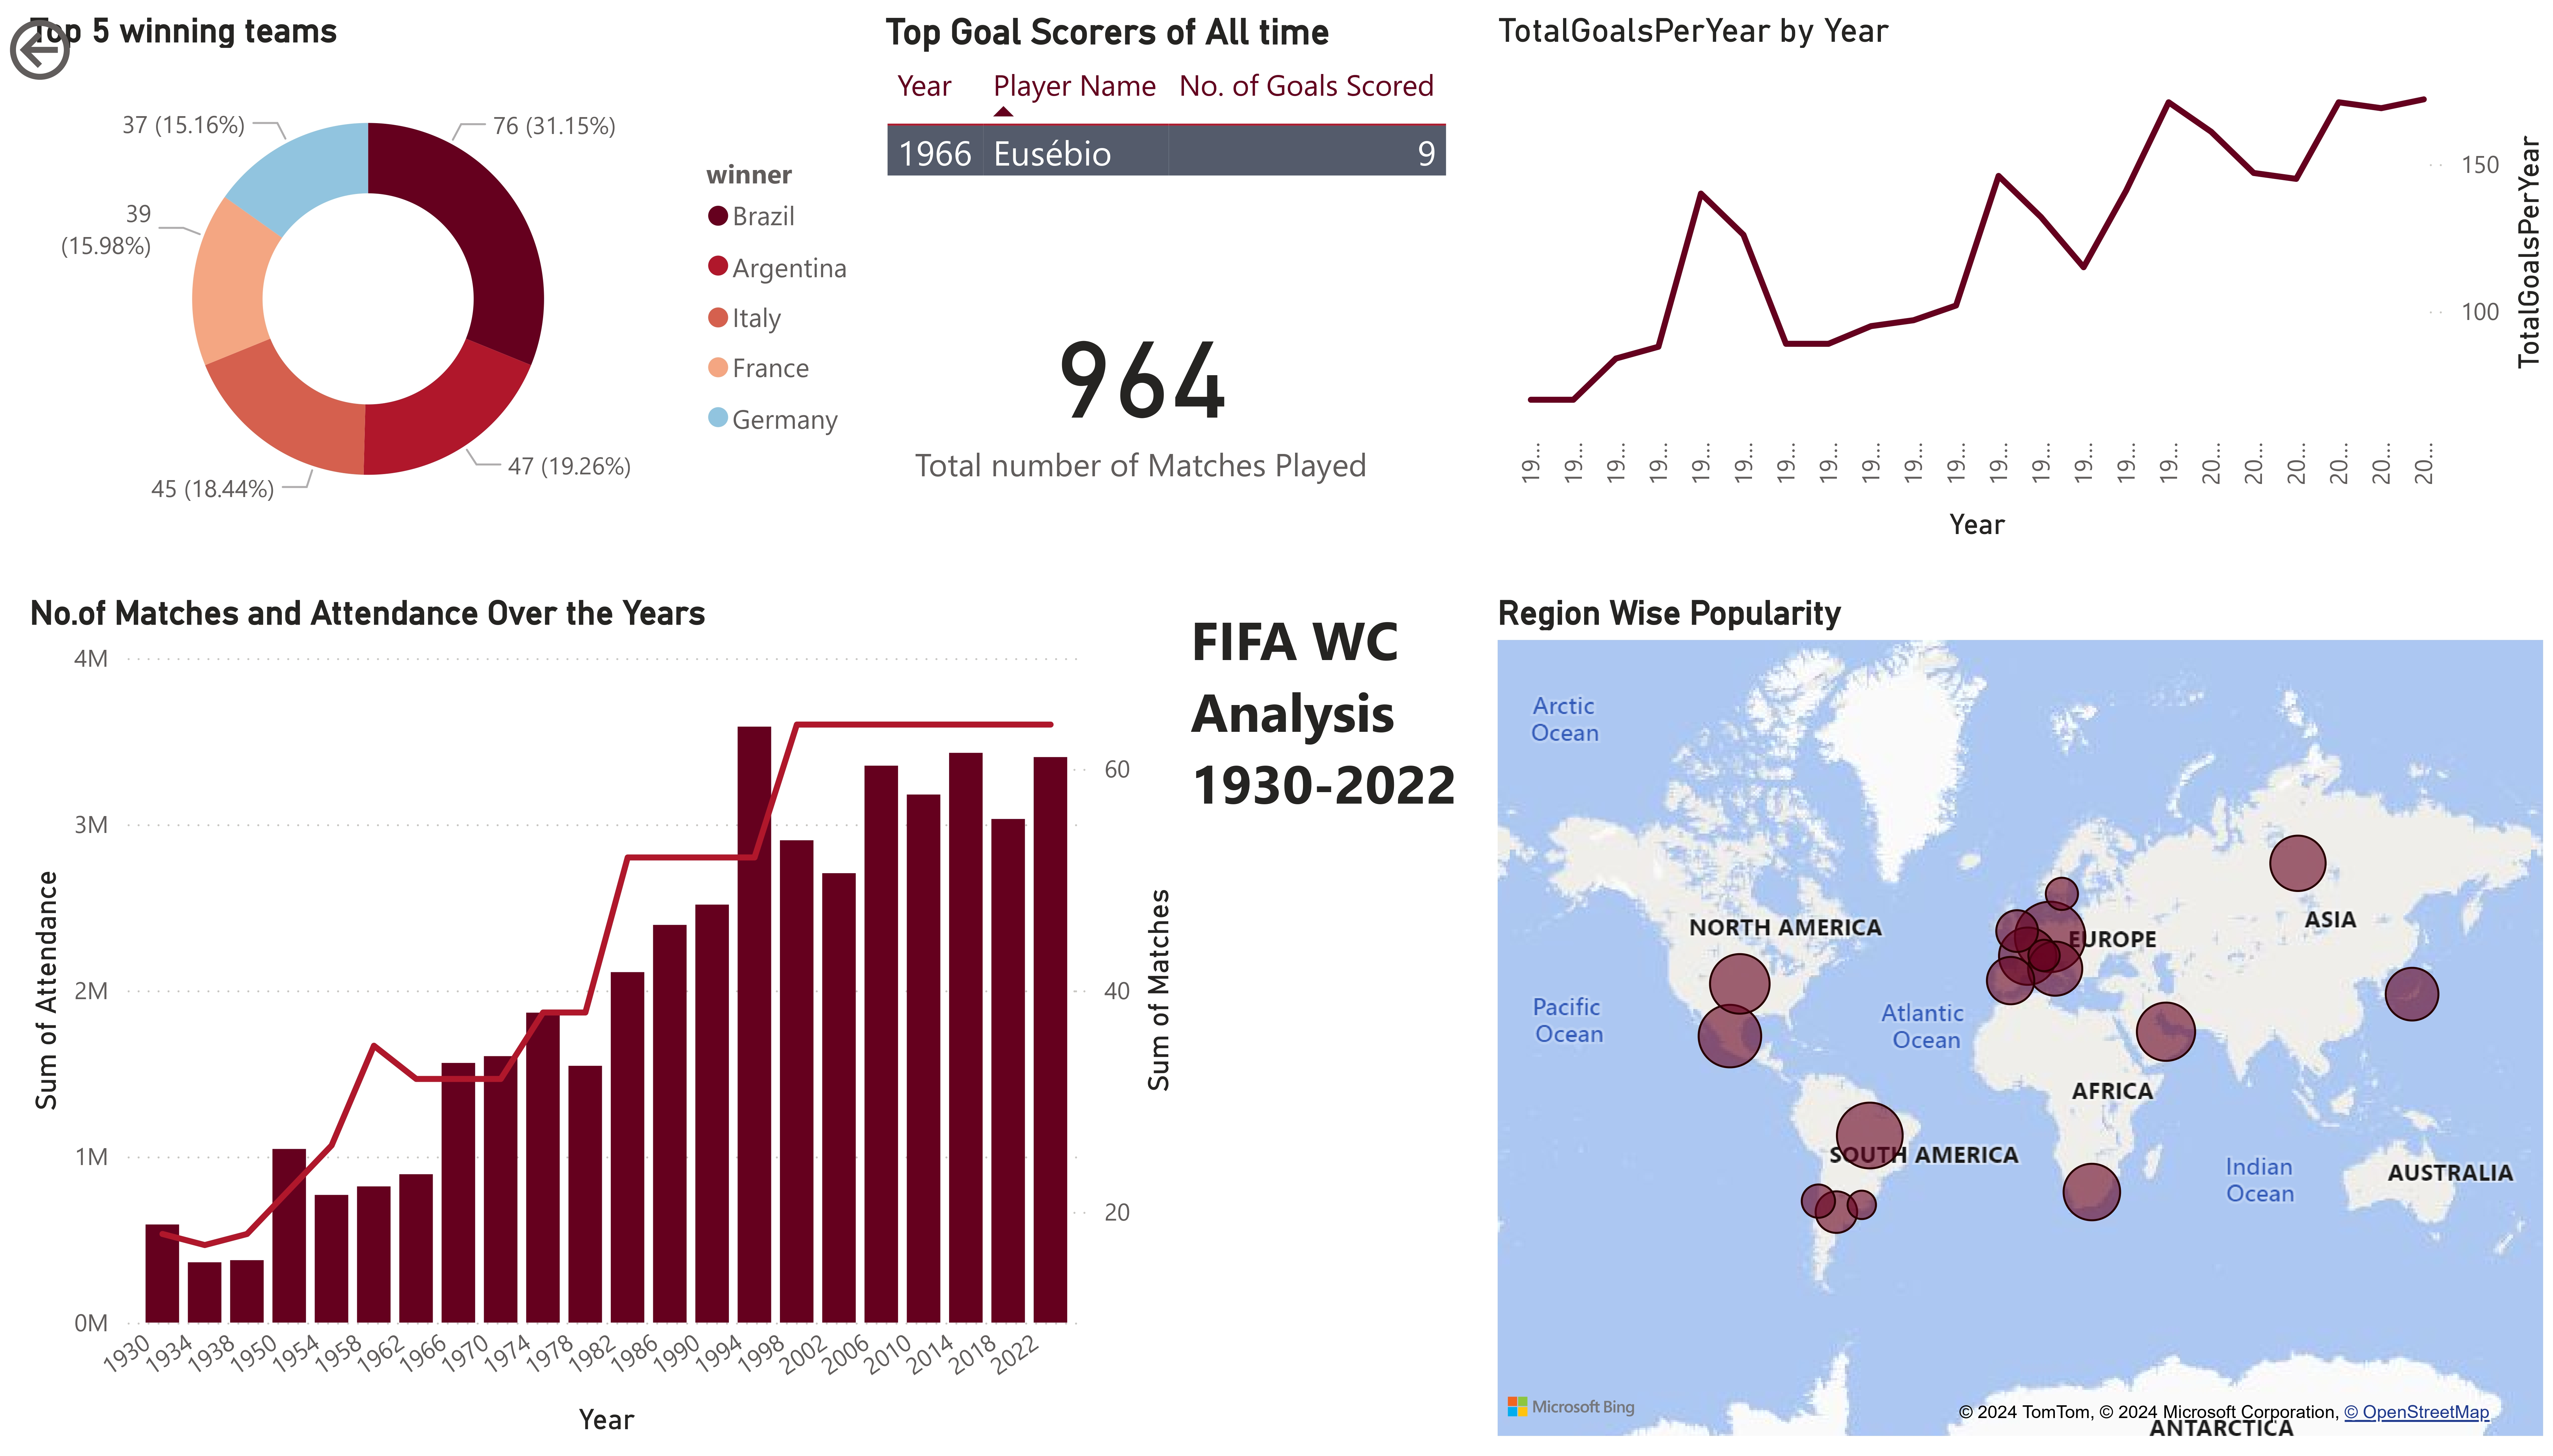

Layout of this report page (visuals, bound fields, positions):
{"tool":"powerbi","page":{"name":"Page 1","canvas":[1280,720],"ordinal":0},"visuals":[{"type":"donutChart","title":"Top 5 winning teams","fields":{"Category":["matches_1930_2022.winner"],"Y":["matches_1930_2022.TotalWins"]},"box":[10.1,0,429.1,270.7],"z":0},{"type":"lineClusteredColumnComboChart","title":"No.of Matches and Attendance Over the Years","fields":{"Category":["world_cup_cleaned.Year"],"Y":["world_cup_cleaned.Attendance"],"Y2":["world_cup_cleaned.Matches"]},"box":[10.1,292.3,583.2,427.7],"z":1000},{"type":"actionButton","box":[0,0,100,40],"z":2000},{"type":"tableEx","title":"Top Goal Scorers of All time","fields":{"Values":["world_cup_cleaned.Year","world_cup_cleaned.TopScorrer.1","world_cup_cleaned.NumberofGoalsByTopScorrers"]},"box":[439.2,0,306.7,106.6],"z":3000},{"type":"map","title":"Region Wise Popularity","fields":{"Category":["world_cup_cleaned.Host"],"Size":["world_cup_cleaned.Attendance"]},"box":[745.9,292.3,534.2,427.7],"z":4000},{"type":"lineChart","fields":{"Category":["world_cup_cleaned.Year"],"Y2":["matches_1930_2022.TotalGoalsPerYear"]},"box":[745.9,0,534.2,270.7],"z":5000},{"type":"card","fields":{"Values":["matches_1930_2022.winner"]},"box":[439.2,106.6,266.4,164.2],"z":6000},{"type":"textbox","box":[592.4,292,150.2,172.9],"z":7000}]}

Visuals, with their boxes in screenshot pixels (x1, y1, x2, y2), scaled from the page's 1280x720 canvas onto the 2553x1456 screenshot:
"Top 5 winning teams" donutChart: x1=20 y1=0 x2=876 y2=547
"No.of Matches and Attendance Over the Years" lineClusteredColumnComboChart: x1=20 y1=591 x2=1183 y2=1456
actionButton: x1=0 y1=0 x2=199 y2=81
"Top Goal Scorers of All time" tableEx: x1=876 y1=0 x2=1488 y2=216
"Region Wise Popularity" map: x1=1488 y1=591 x2=2553 y2=1456
lineChart - world_cup_cleaned.Year x matches_1930_2022.TotalGoalsPerYear: x1=1488 y1=0 x2=2553 y2=547
card - matches_1930_2022.winner: x1=876 y1=216 x2=1407 y2=548
textbox: x1=1181 y1=591 x2=1481 y2=940
